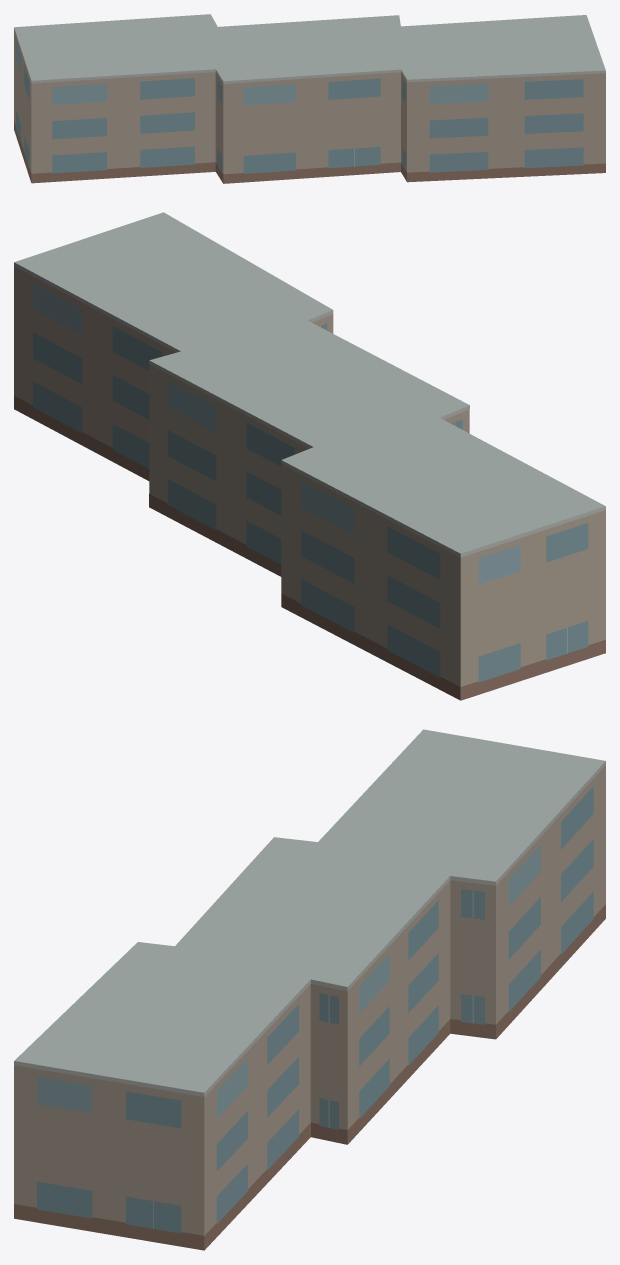
File: survey-upis-32875125.glb
3 views of the same model, one above another, from view 1: azimuth 30°, elevation 25°; view 2: azimuth 150°, elevation 25°; view 3: azimuth 270°, elevation 25° (orthographic). The views are drawn at different scales.
Parts seen in each view (by area): view 1: survey-upis-32875125.tmp; view 2: survey-upis-32875125.tmp; view 3: survey-upis-32875125.tmp.
Part boxes in pixels (x1,y1,x2,y2): survey-upis-32875125.tmp: (14,14,605,183); survey-upis-32875125.tmp: (14,212,605,700); survey-upis-32875125.tmp: (14,729,605,1250).
Size of the model in its own units: 45.23 by 9.15 by 31.13.
